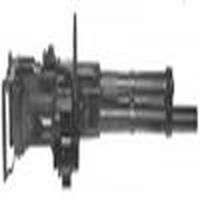gun: (3, 51, 194, 178)
